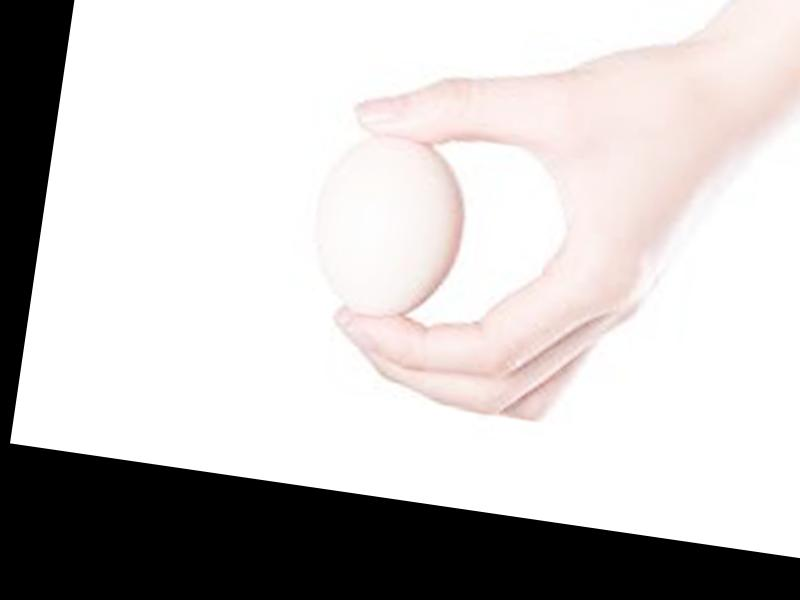Eggs: (302, 124, 475, 329)
